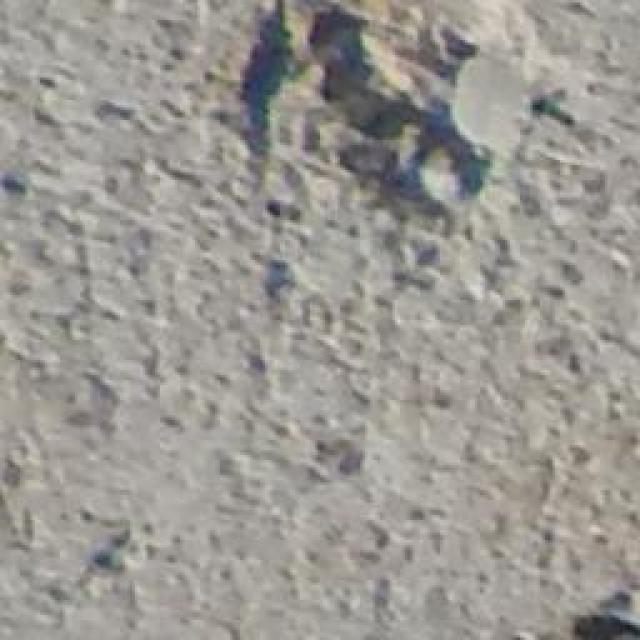concrete-crack: (227, 0, 593, 242)
